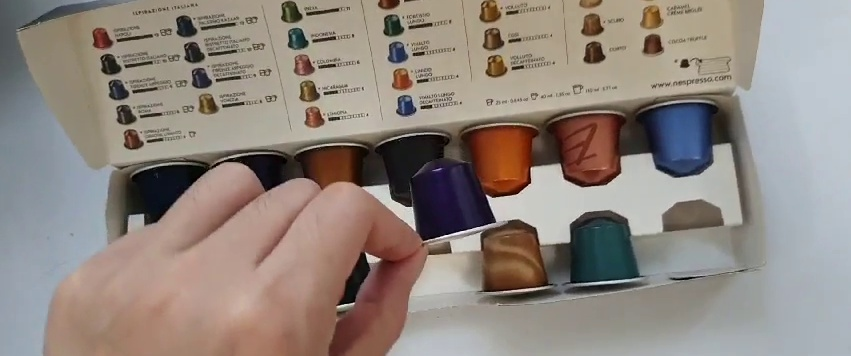capsule_11: (405, 158, 502, 249)
